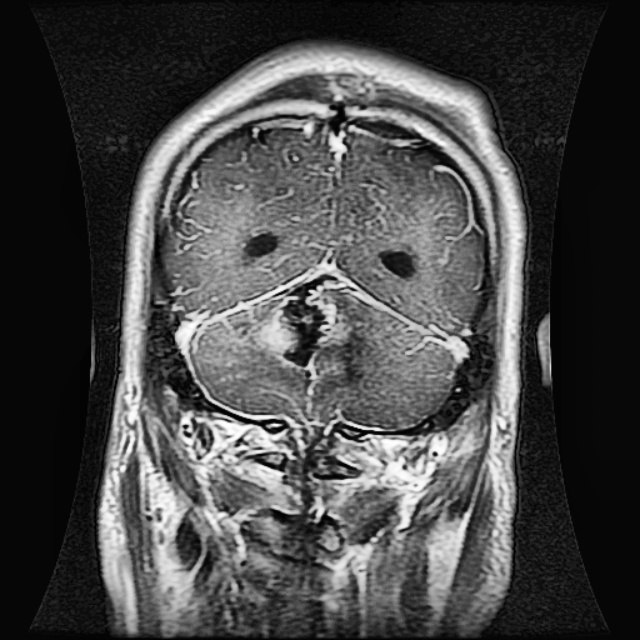Meningioma: (257, 269, 343, 372)
